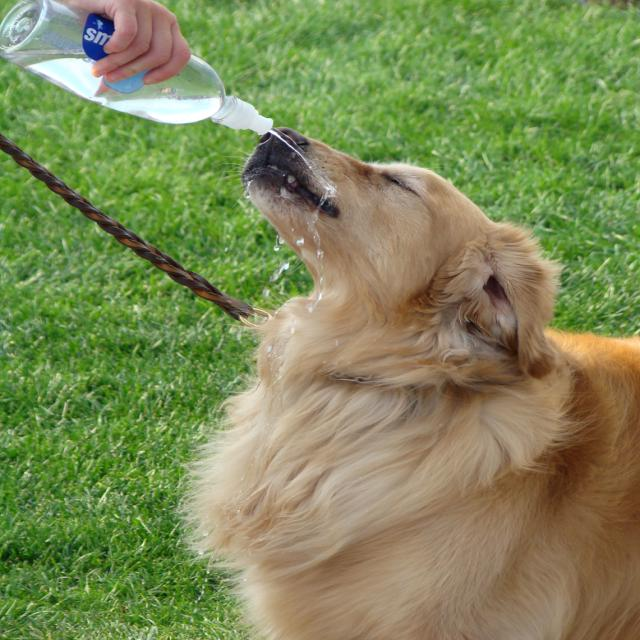Bottle: (0, 0, 272, 138)
